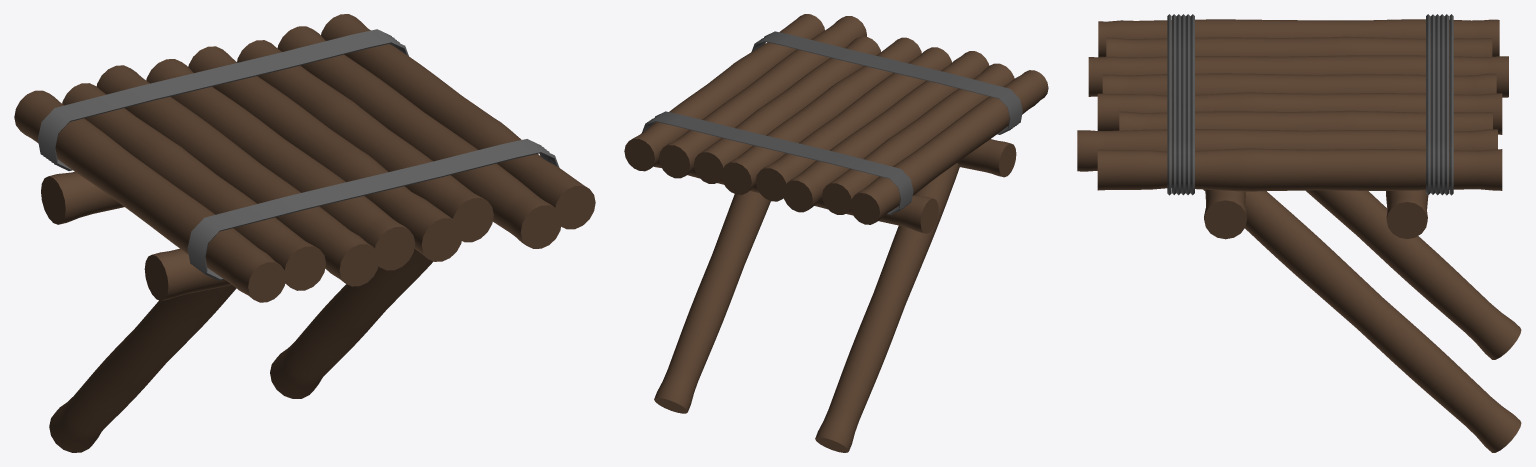
File: Wooden Platform.fbx
The picture shows the model from 3 angles, left to right: view 1: azimuth 30°, elevation 25°; view 2: azimuth 150°, elevation 25°; view 3: azimuth 270°, elevation 25°; orthographic projection. The views are drawn at different scales.
Parts seen in each view (by area): view 1: NurbsPath.000; view 2: NurbsPath.000; view 3: NurbsPath.000.
Boxes of the visible parts, x1,y1,x2,y2 form: NurbsPath.000: (14,14,595,452); NurbsPath.000: (624,14,1048,452); NurbsPath.000: (1077,14,1521,452).
Bounding box in the file's own units: 98.42 × 92.45 × 115.
